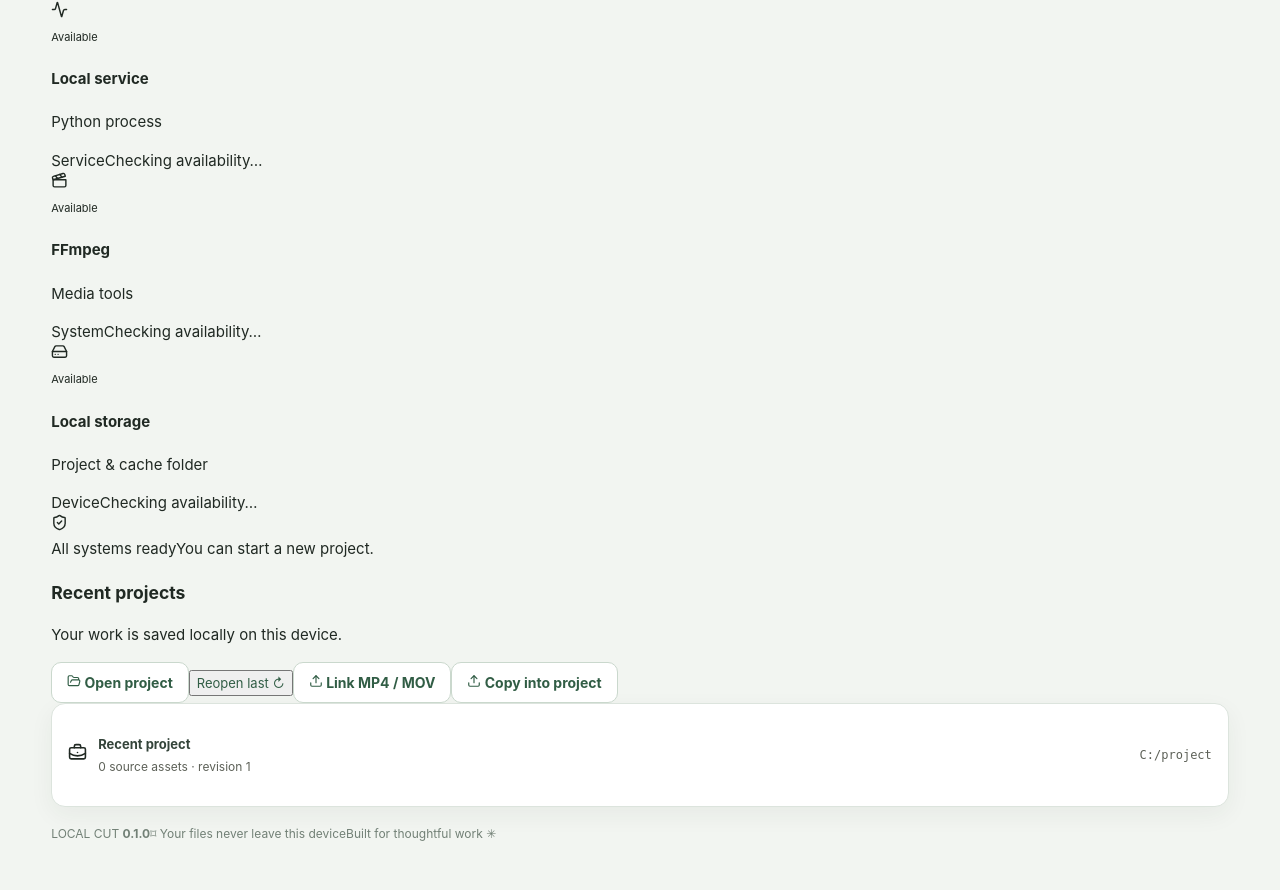
it: desktop startup UI › offers project-managed copies as an explicit import choice
The image size is (1280, 890).
(page scrolled)
Step 1. Click the button "Copy into project" → (535, 683), box [451,662,618,703]
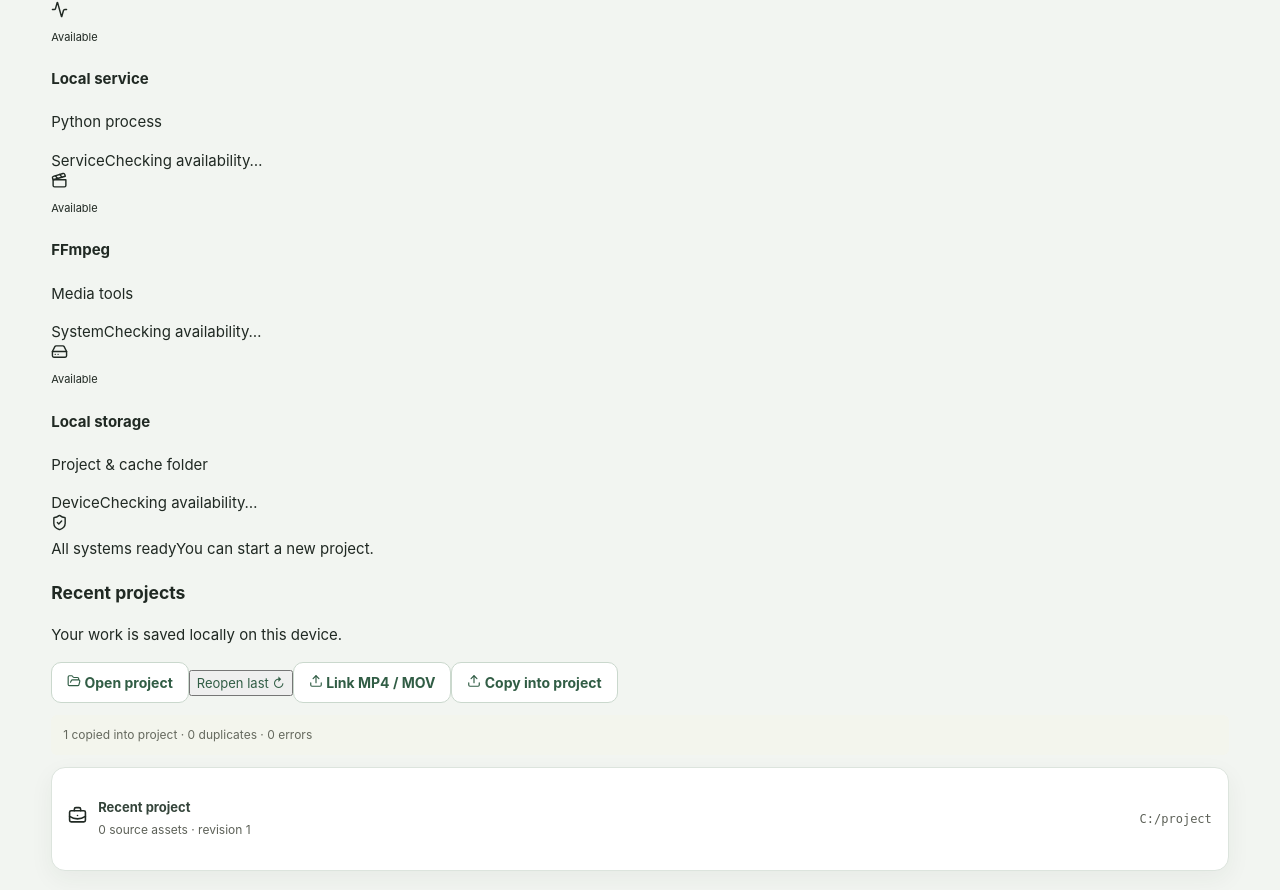
Result: the text "copied into project" is shown at [63,727,312,742]
